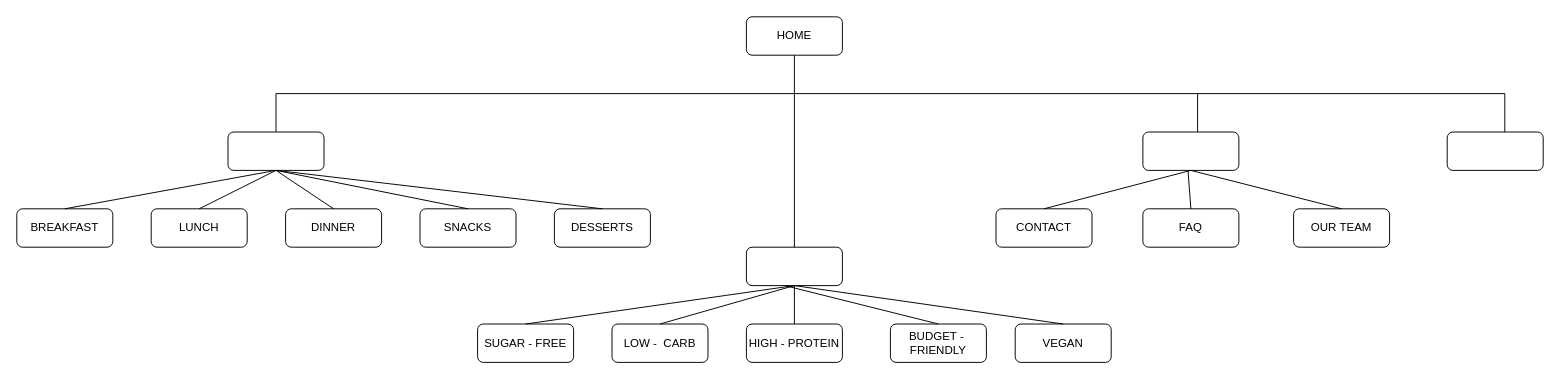
Some shapes in this 1560 by 379 pixel diagram are drawn without their labels. The centre of each missing label's shape, as x and y in pixels:
"ABOUT US" goes at (1190,150).
"DIET" goes at (793,266).
"LOG IN" goes at (1494,150).
"RECIPES" goes at (275,150).
